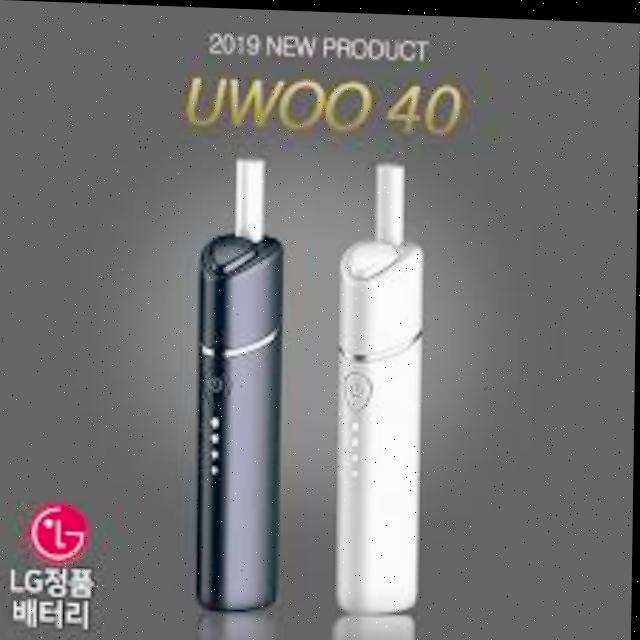vape: (195, 154, 286, 608), (342, 161, 424, 611)
